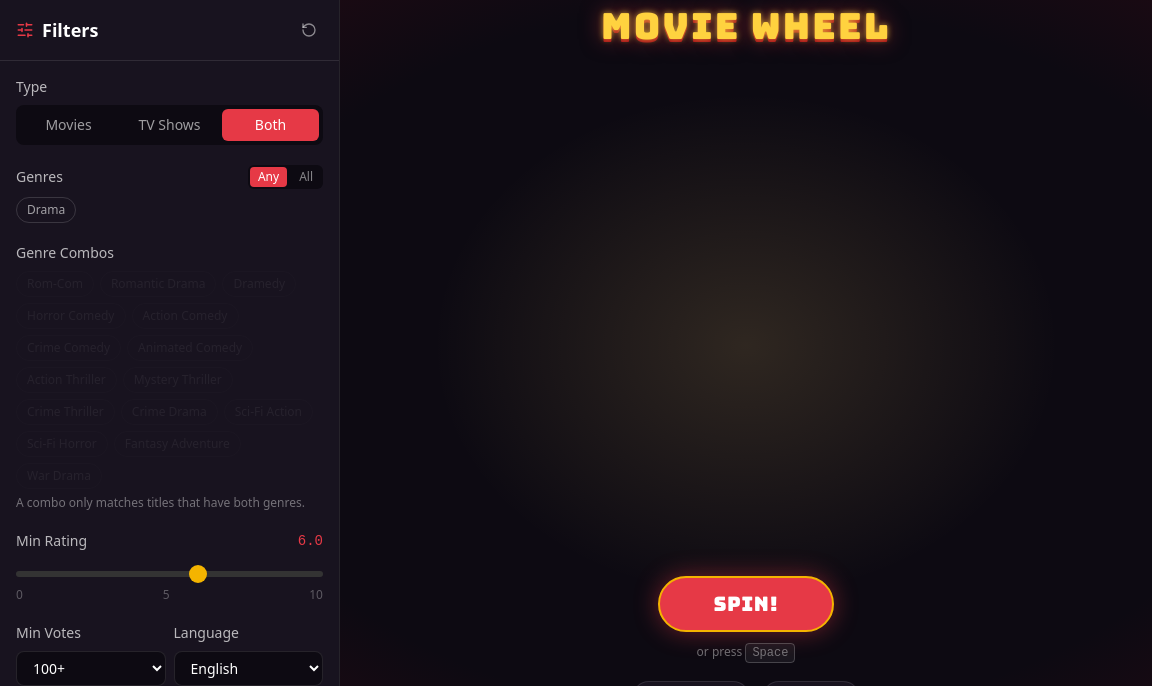
Scenario: App › spins the wheel and presents the picked title
This screenshot has width=1152, height=686.
Click the button "Spin!".
click(746, 604)  # box [658, 576, 834, 632]
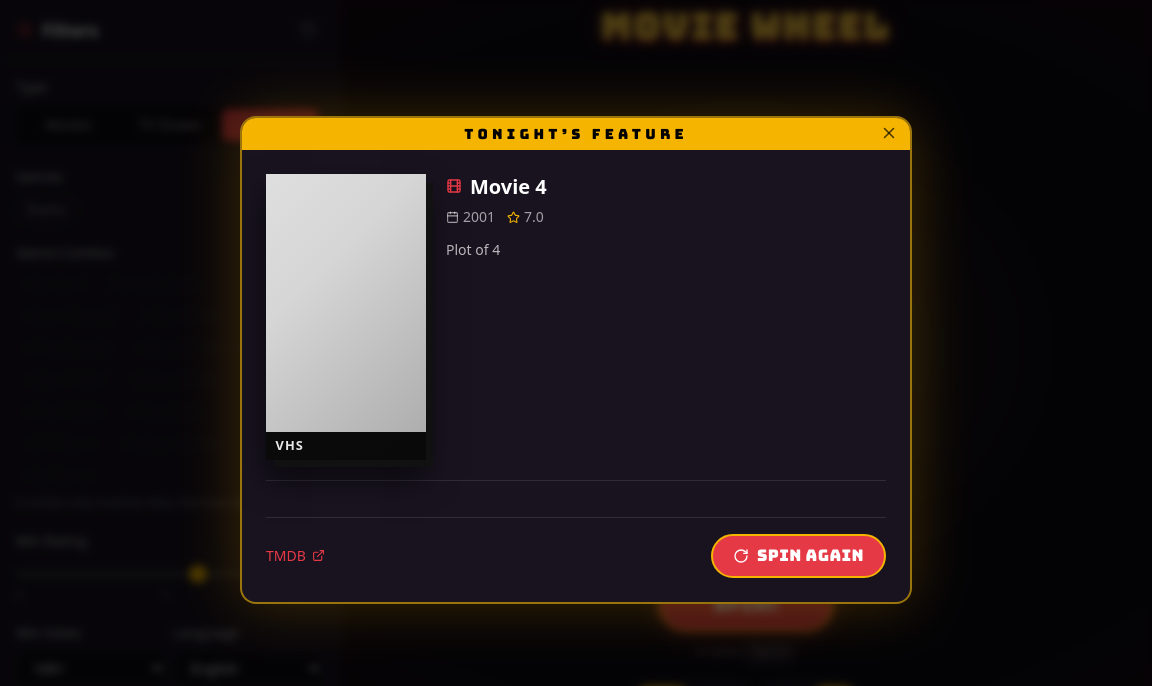
Expected: the text "Plot of 4" is shown, [446, 240, 500, 259]
Expected: the heading "Movie 4" is shown, [470, 174, 547, 199]
Press Escape
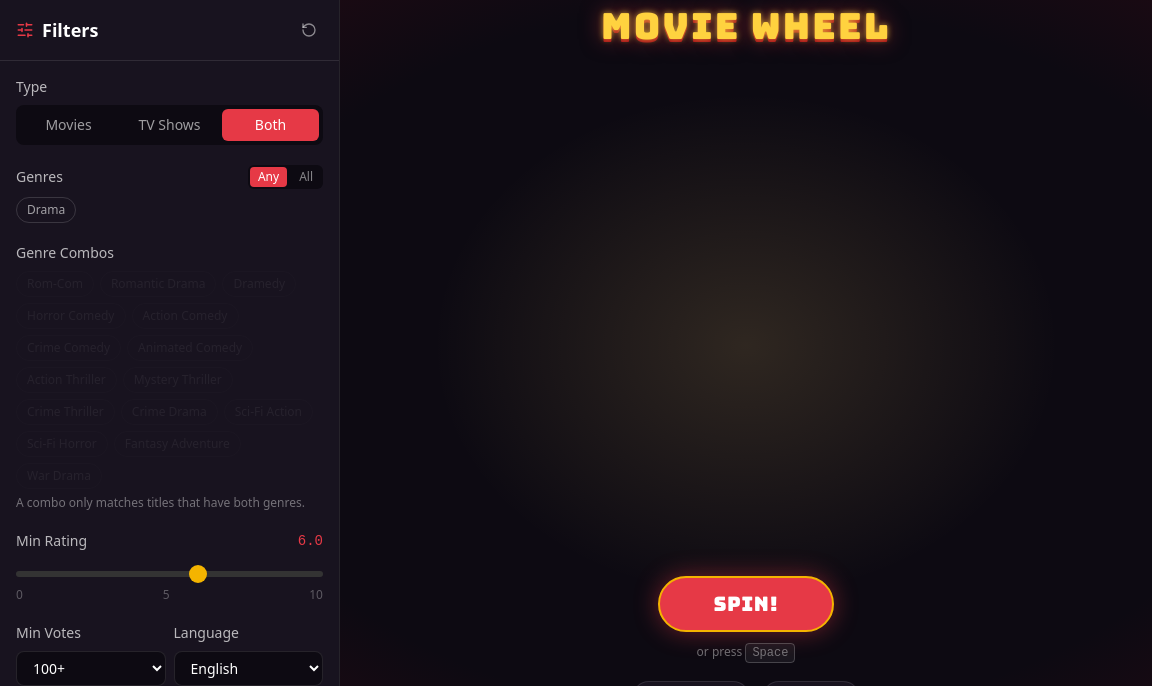
Expected: the text "Plot of 4" is gone
